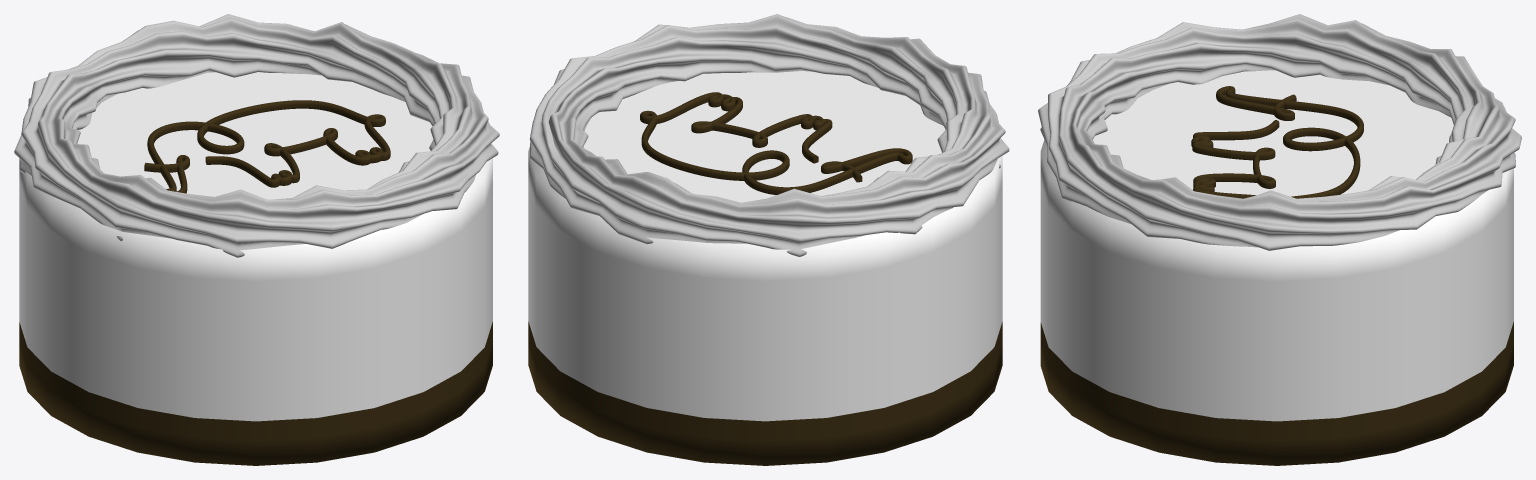
Rendered from ATC_cake.glb.
3 views of the same model, side by side, from view 1: azimuth 30°, elevation 25°; view 2: azimuth 150°, elevation 25°; view 3: azimuth 270°, elevation 25° (orthographic).
Parts seen in each view (by area): view 1: cake_bread_deco, cake_cream_no_deco, cake_tart_2, cake_deco.001; view 2: cake_bread_deco, cake_cream_no_deco, cake_tart_2, cake_deco.001; view 3: cake_bread_deco, cake_cream_no_deco, cake_tart_2, cake_deco.001.
Boxes of the visible parts, x1=… form: cake_bread_deco: x1=19, y1=72, x2=492, y2=421; cake_cream_no_deco: x1=14, y1=14, x2=499, y2=257; cake_tart_2: x1=19, y1=322, x2=492, y2=465; cake_deco.001: x1=144, y1=100, x2=390, y2=193; cake_bread_deco: x1=528, y1=71, x2=1002, y2=421; cake_cream_no_deco: x1=529, y1=14, x2=1009, y2=256; cake_tart_2: x1=528, y1=321, x2=1002, y2=465; cake_deco.001: x1=640, y1=92, x2=912, y2=194; cake_bread_deco: x1=1040, y1=70, x2=1513, y2=421; cake_cream_no_deco: x1=1038, y1=14, x2=1521, y2=250; cake_tart_2: x1=1040, y1=322, x2=1513, y2=465; cake_deco.001: x1=1191, y1=86, x2=1363, y2=198.
Bounding box in the file's own units: 0.3081 × 0.1827 × 0.3068.
